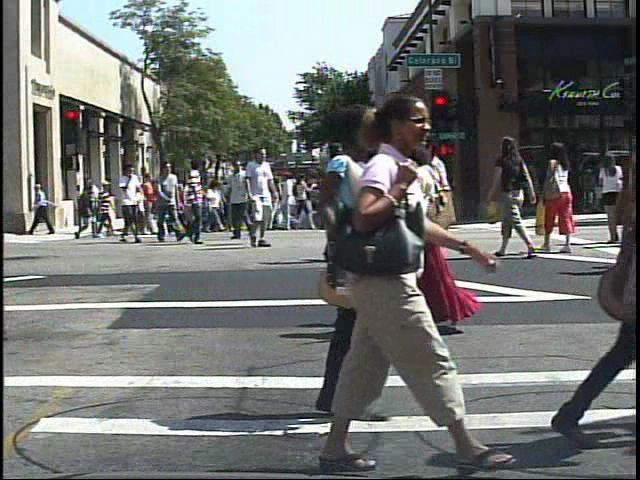person: (274, 85, 478, 480), (410, 133, 475, 339), (423, 127, 482, 340), (319, 135, 373, 268), (354, 143, 407, 264), (491, 134, 540, 262), (537, 138, 581, 259), (238, 145, 273, 252), (599, 145, 631, 249), (174, 155, 209, 247), (152, 157, 185, 246), (114, 160, 144, 245), (92, 177, 117, 241), (77, 182, 97, 232)
